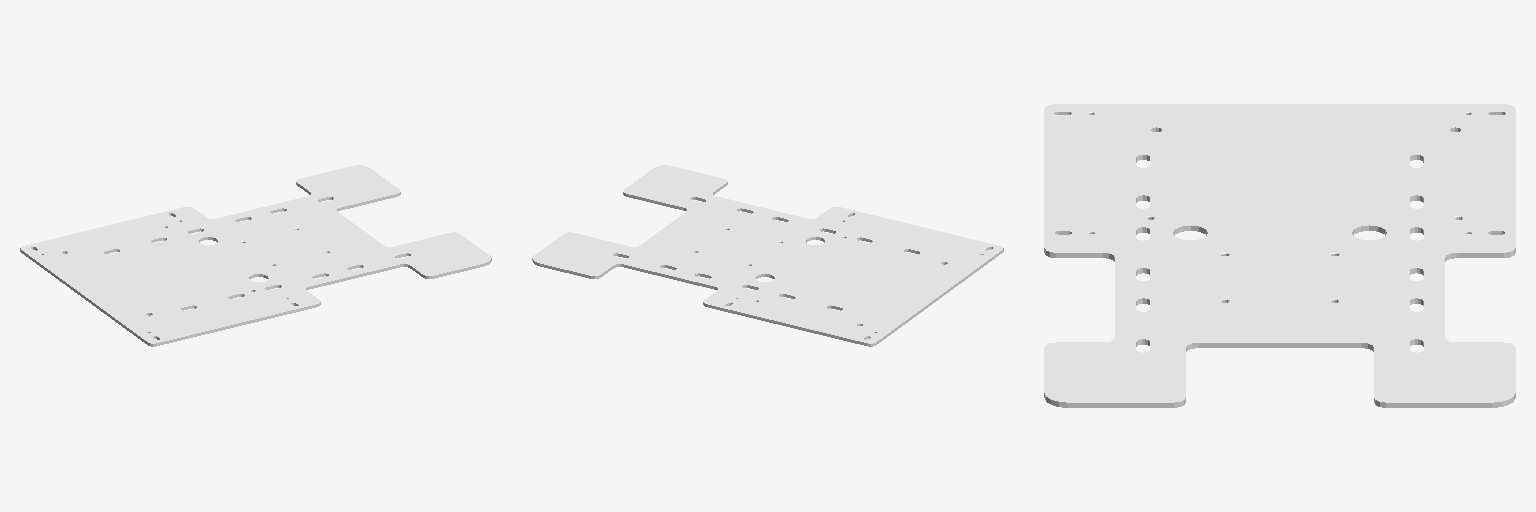
URDF robot description (second_base):
<?xml version="1.0" encoding="utf-8"?>
<!-- This URDF was automatically created by SolidWorks to URDF Exporter! Originally created by [author] ([email redacted]) 
     Commit Version: 1.6.0-4-g7f85cfe  Build Version: 1.6.7995.38578
     For more information, please see http://wiki.ros.org/sw_urdf_exporter -->
<robot
  name="second_base">
  <link
    name="urbase_base_link">
    <inertial>
      <origin
        xyz="-0.0821499280748119 -2.5975459884737E-05 -0.00250008544254768"
        rpy="0 0 0" />
      <mass
        value="0.965960559010444" />
      <inertia
        ixx="0.0122165277186615"
        ixy="-4.00804681294595E-06"
        ixz="-1.87749280324881E-10"
        iyy="0.0276040033352521"
        iyz="4.28906904561782E-10"
        izz="0.0398165064505868" />
    </inertial>
    <visual>
      <origin
        xyz="0 0 0"
        rpy="0 0 0" />
      <geometry>
        <mesh
          filename="package://second_base/meshes/urbase_base_link.STL" />
      </geometry>
      <material
        name="">
        <color
          rgba="1 1 1 1" />
      </material>
    </visual>
    <collision>
      <origin
        xyz="0 0 0"
        rpy="0 0 0" />
      <geometry>
        <mesh
          filename="package://second_base/meshes/urbase_base_link.STL" />
      </geometry>
    </collision>
  </link>
</robot>

--- Facts derived from the render (not from the file) ---
3 views of the same robot in one strip: view 1: azimuth 30°, elevation 25°; view 2: azimuth 150°, elevation 25°; view 3: azimuth 270°, elevation 25° (orthographic).
Robot: second_base — 1 links, 0 joints (none); root link urbase_base_link; default pose: every joint at zero.
Visible links, largest first — view 1: urbase_base_link; view 2: urbase_base_link; view 3: urbase_base_link.
Boxes of the visible links, box(x1,y1,x2,y2) form: urbase_base_link: box(20, 165, 491, 346); urbase_base_link: box(532, 165, 1003, 346); urbase_base_link: box(1044, 104, 1515, 407).
Size in the robot's own frame: 0.6 by 0.4 by 0.005 metres.
Meshes: 1 distinct files referenced, 1 mesh visuals loaded (1 binary STL).
